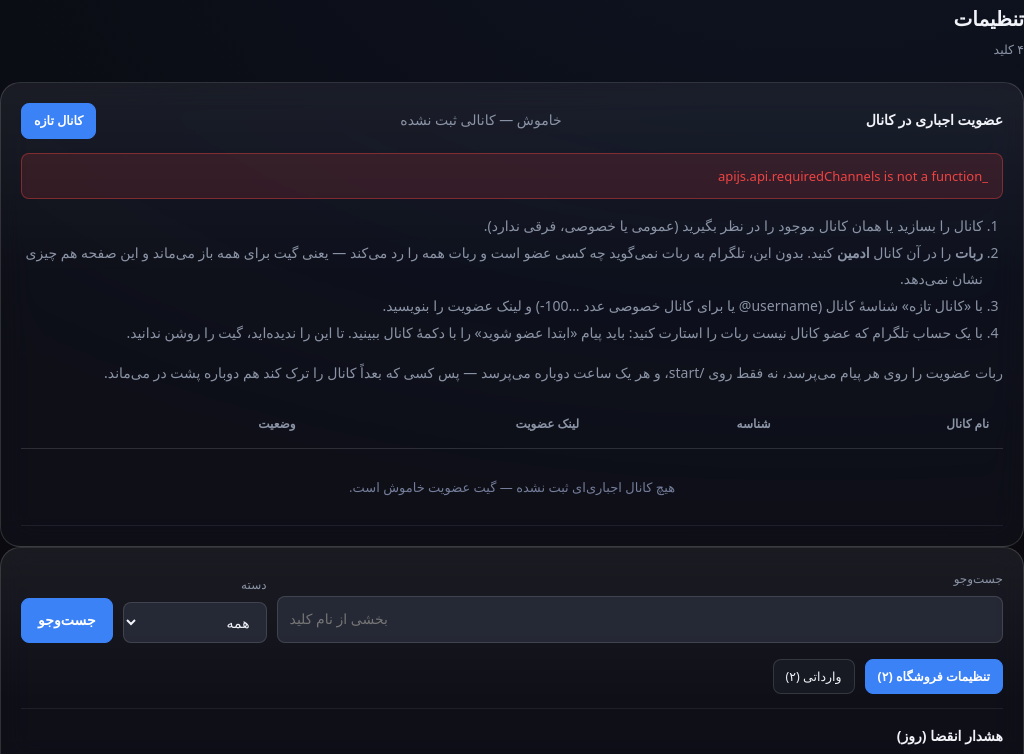
Scenario: the settings screen › keeps the imported rows out of the form and on their own tab
The width and height of the screenshot is (1024, 754).
Check: the text "هشدار انقضا (روز)" is shown, box left=897, top=726, right=1003, bottom=745
Check: the text "Dice" is not shown
What coordinates should you click on to do the following:
click the tab "وارداتی (۲)"
I would click on:
 (814, 676)
Its box is left=773, top=659, right=855, bottom=694.
(page scrolled)
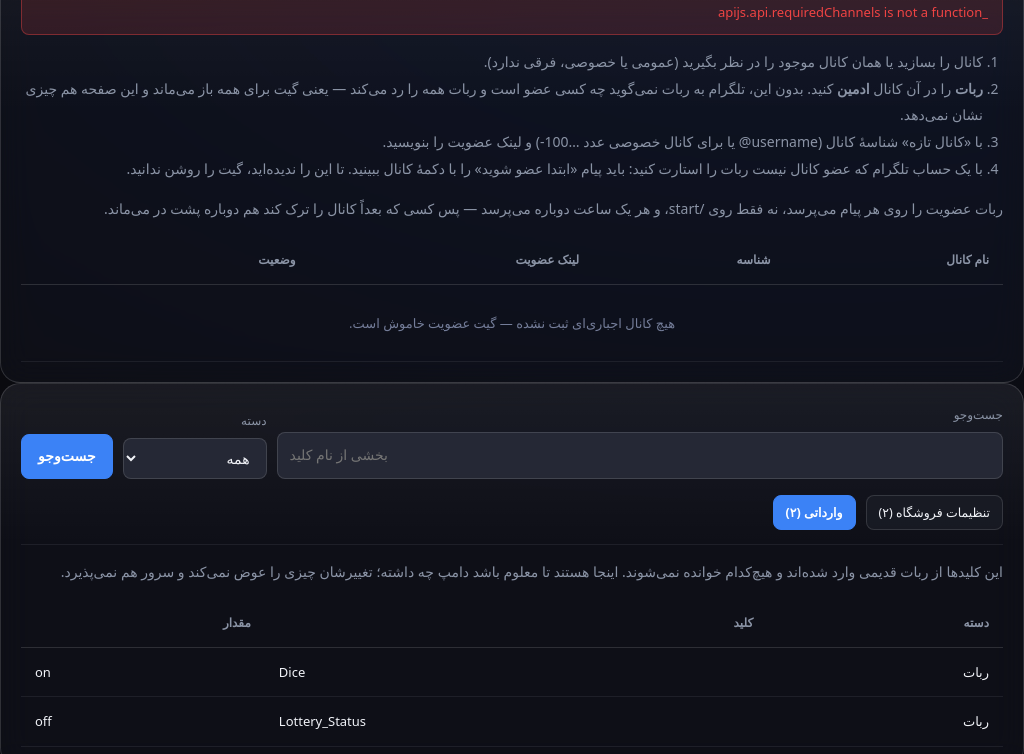
Check: the text "Dice" is shown, box left=265, top=647, right=767, bottom=697
Check: the text "Lottery_Status" is shown, box left=265, top=697, right=767, bottom=747
